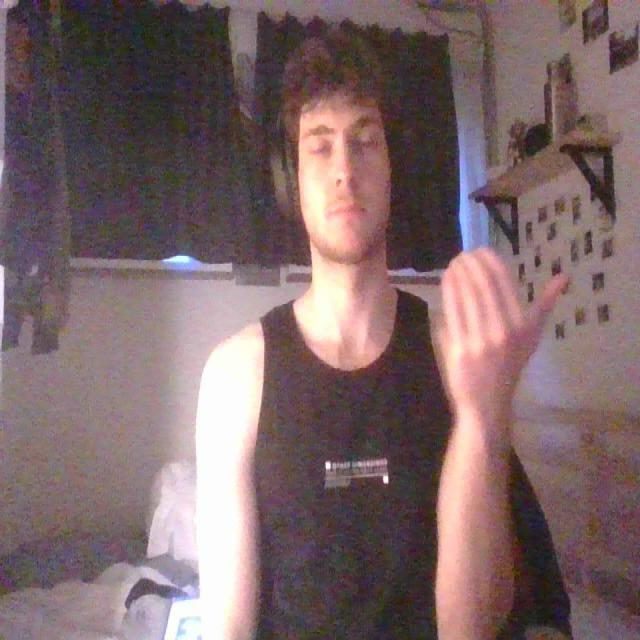forward: (428, 237, 580, 418)
